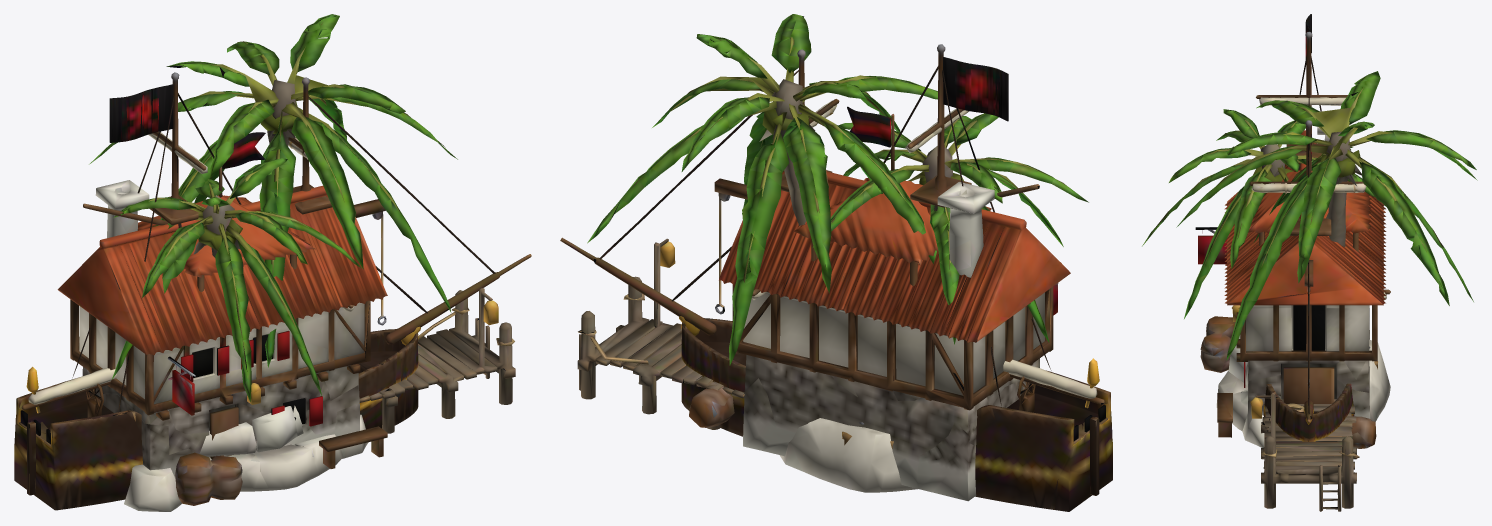
The model's file is gunpowder_decor_harbor.glb.
3 renders of one model, left to right at view 1: azimuth 30°, elevation 25°; view 2: azimuth 150°, elevation 25°; view 3: azimuth 270°, elevation 25°, orthographic. The views are drawn at different scales.
Visible parts, largest first — view 1: Tavern, Ship, Palm_A, Palm_B, Rock_C, Jetty, Lookout; view 2: Tavern, Ship, Palm_A, Palm_B, Jetty, Lookout, Rock_C; view 3: Tavern, Palm_A, Jetty, Ship, Palm_B, Rock_C, Lookout.
Part boxes in pixels (x1,y1,x2,y2): Tavern: (57, 180, 387, 505); Ship: (14, 72, 531, 510); Palm_A: (89, 14, 457, 367); Palm_B: (112, 158, 362, 401); Rock_C: (124, 405, 368, 511); Jetty: (359, 287, 515, 433); Lookout: (137, 132, 315, 291); Tavern: (689, 170, 1070, 501); Ship: (560, 44, 1112, 511); Palm_A: (587, 14, 937, 365); Palm_B: (812, 113, 1088, 344); Jetty: (577, 238, 744, 429); Lookout: (793, 106, 991, 285); Rock_C: (779, 418, 917, 492); Tavern: (1195, 124, 1386, 448); Palm_A: (1176, 71, 1477, 360); Jetty: (1250, 392, 1359, 511); Ship: (1249, 14, 1390, 441); Palm_B: (1142, 109, 1386, 318); Rock_C: (1216, 335, 1390, 447); Lookout: (1248, 134, 1371, 251).
Size of the model in its own units: 5.07 by 3.73 by 3.3.
1 material, 1 textured.
